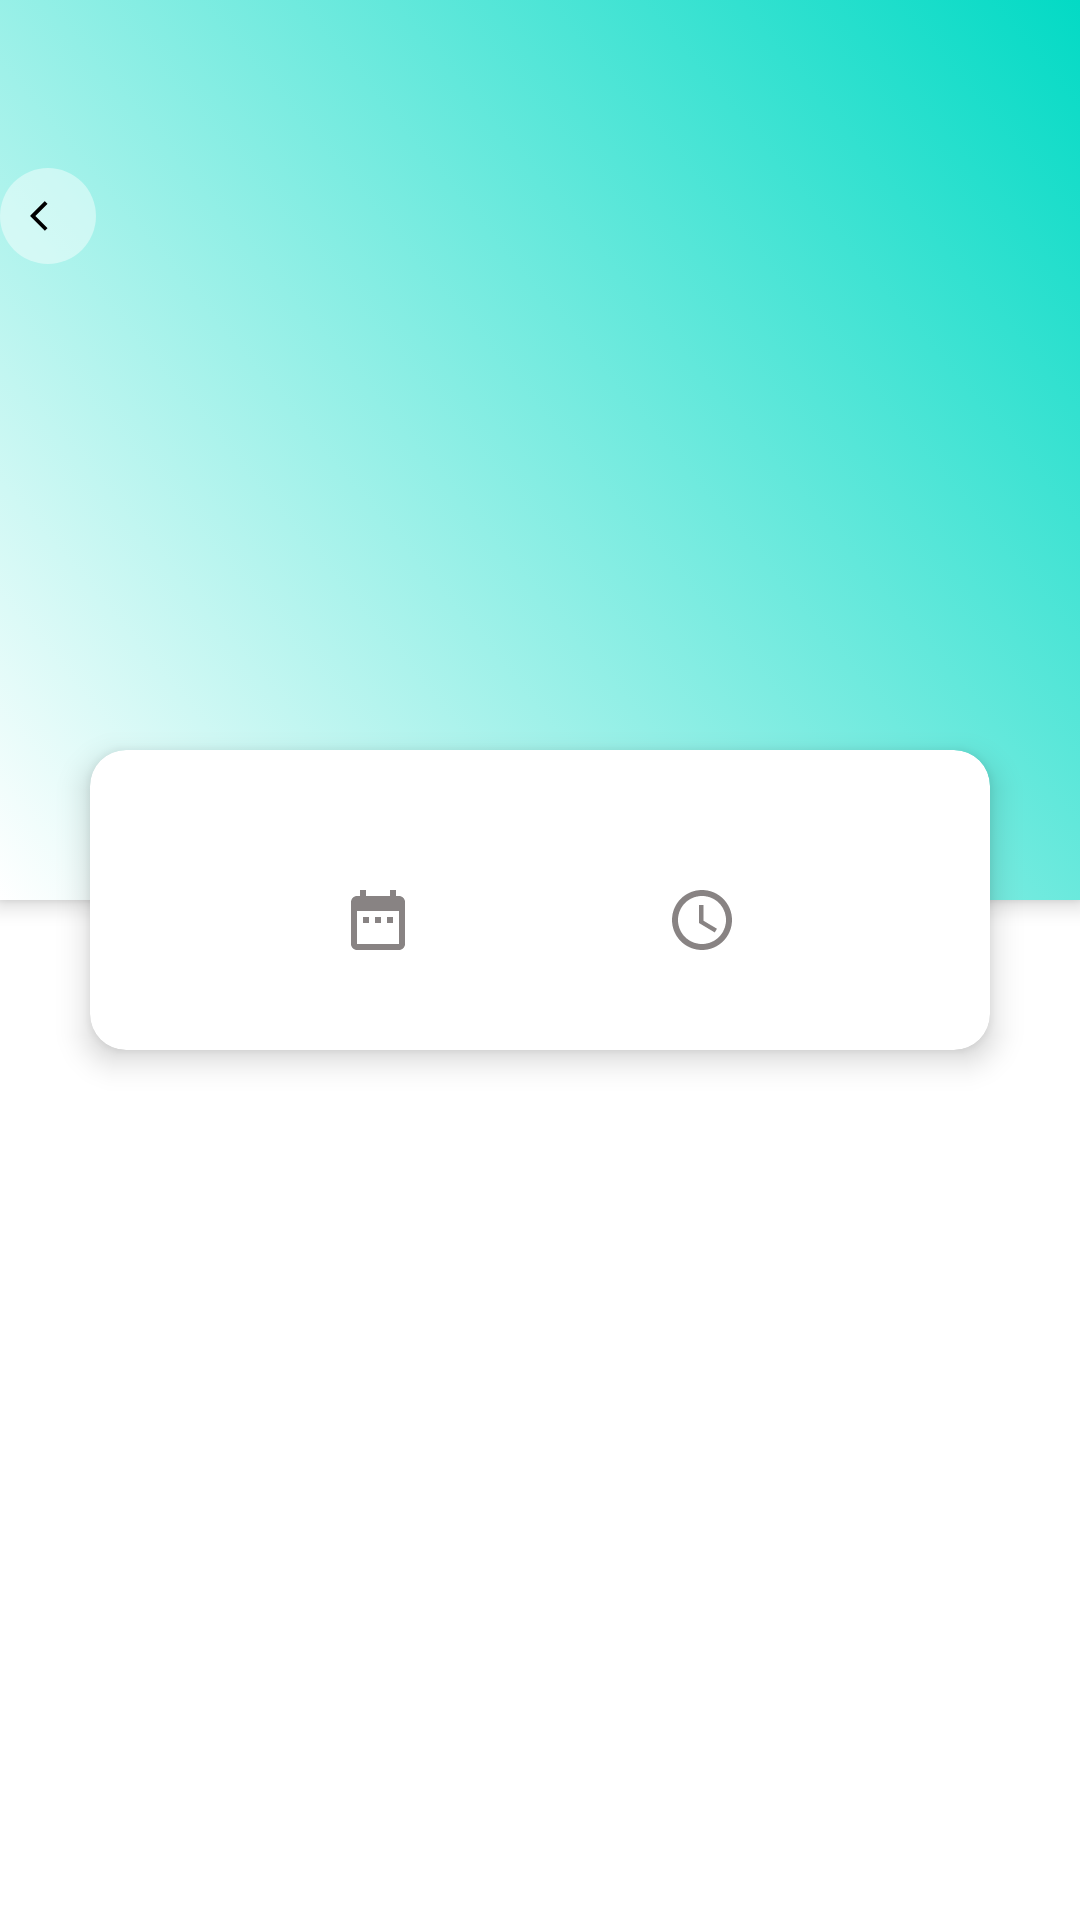

Locate icon controls on the screen. Image size 1080 × 1920, boxes as (left=x1, top=y1, right=x2, bottom=y2).
arrow back: (left=0, top=168, right=96, bottom=264)
